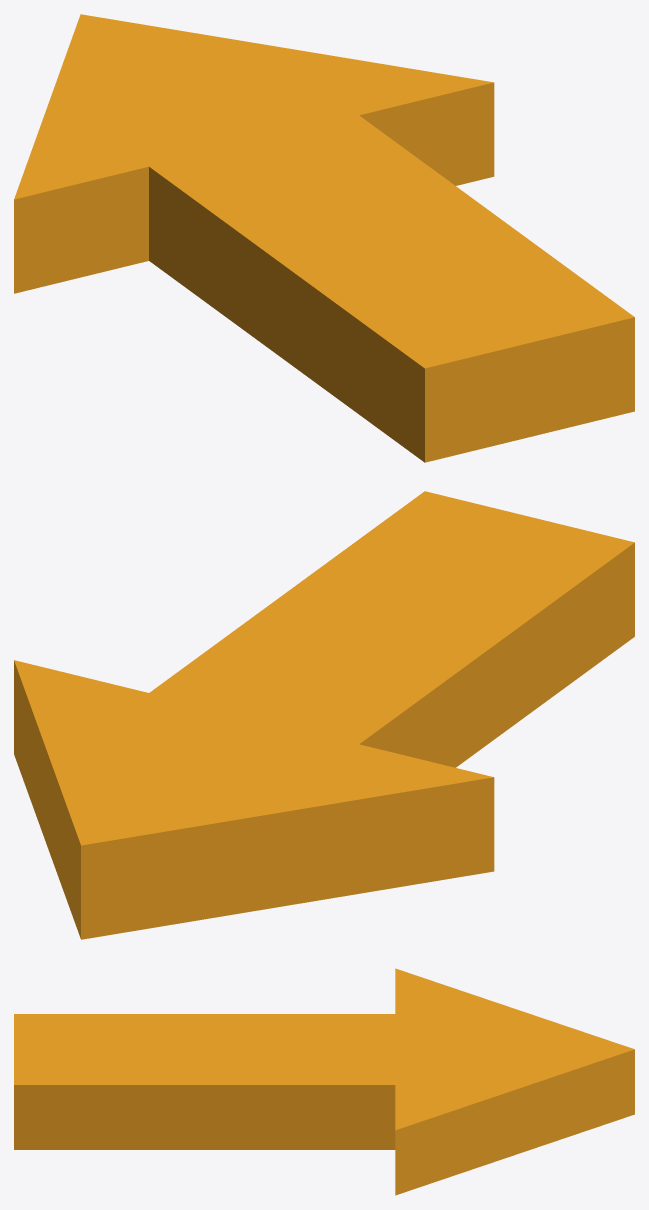
File: arrow.dae
3 renders of one model, top to bottom at view 1: azimuth 30°, elevation 25°; view 2: azimuth 150°, elevation 25°; view 3: azimuth 270°, elevation 25°, orthographic. The views are drawn at different scales.
Visible parts, largest first — view 1: Box, Box1; view 2: Box1, Box; view 3: Box, Box1.
Boxes of the visible parts, bbox=[...] form: Box: bbox=[148, 114, 634, 462]; Box1: bbox=[14, 14, 494, 293]; Box1: bbox=[14, 660, 494, 939]; Box: bbox=[148, 491, 634, 767]; Box: bbox=[14, 1014, 397, 1149]; Box1: bbox=[395, 968, 634, 1195].
Size of the model in its own units: 0.8 by 0.15 by 1.3.
